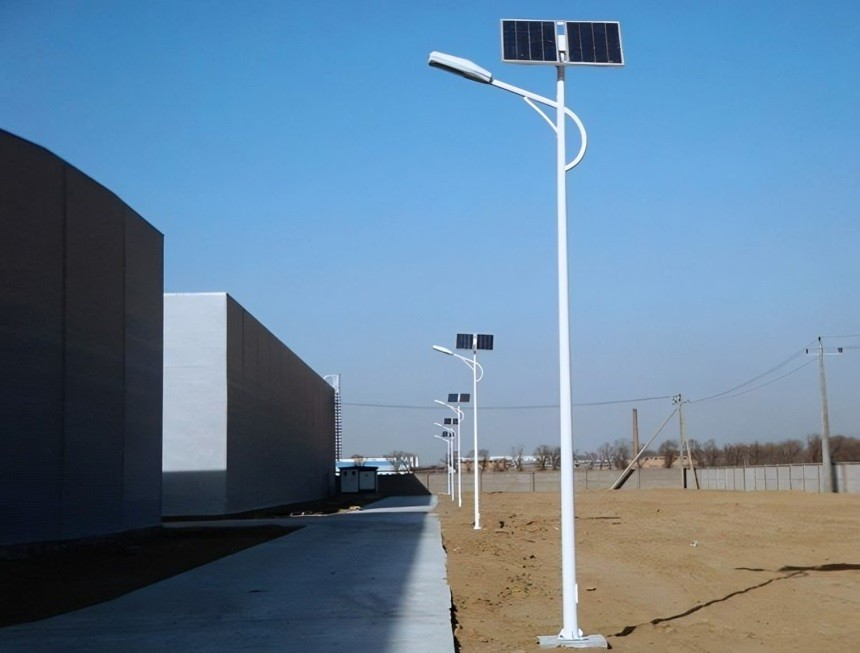light_pole: (546, 79, 584, 652), (813, 345, 843, 500), (465, 356, 484, 534), (451, 407, 469, 515), (670, 398, 689, 487)
